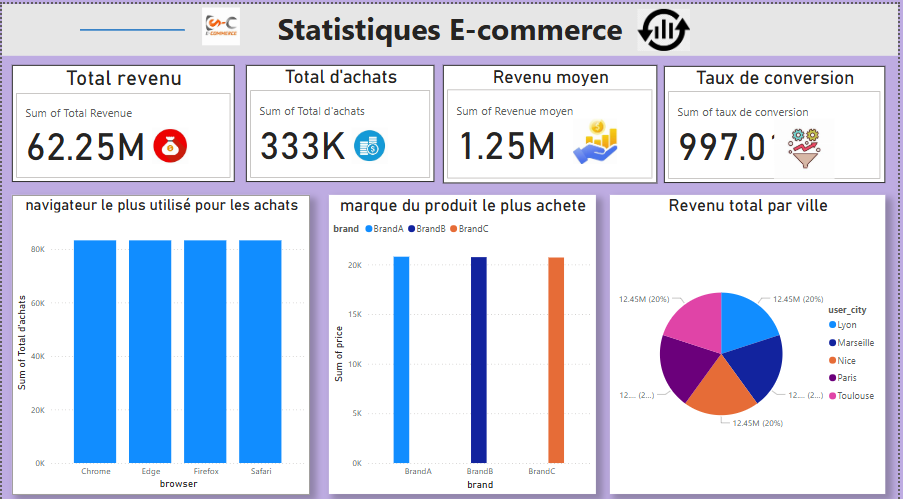

What the dashboard file says about the page in this screenshot:
{"tool":"powerbi","page":{"name":"tableau de bord ecommerce","canvas":[1280,720],"ordinal":0},"visuals":[{"type":"textbox","box":[0,0,1280,74.3],"z":0},{"type":"cardVisual","title":"Total revenu","fields":{"Data":["Sum(public ecommerce_events.Total Revenue)"]},"box":[14.4,87.8,318.2,167],"z":1000},{"type":"image","box":[194.4,171.4,92.2,61.9],"z":2000},{"type":"cardVisual","title":"Total d''achats","fields":{"Data":["Sum(public ecommerce_events.Total d'achats)"]},"box":[348.5,87.8,269.3,167],"z":4000},{"type":"image","box":[466.6,171.4,116.6,61.9],"z":5000},{"type":"cardVisual","title":"Revenu moyen","fields":{"Data":["Sum(public ecommerce_events.Revenue moyen)"]},"box":[630,87.1,305.7,168.6],"z":6000},{"type":"image","box":[793.4,158.4,109.4,74.9],"z":7000},{"type":"cardVisual","title":"Taux de conversion","fields":{"Data":["Sum(public ecommerce_events.taux de conversion)"]},"box":[945.7,88.6,315.7,167.1],"z":8000},{"type":"image","box":[1046.9,158.4,198.7,96.5],"z":9000},{"type":"image","box":[902.9,0,85,74.9],"z":10000},{"type":"clusteredColumnChart","title":" navigateur le plus utilisé pour les achats ","fields":{"Y":["Sum(public ecommerce_events.Total d'achats)"],"Category":["public ecommerce_events.browser"]},"box":[14.3,273.5,425.5,427.3],"z":11000},{"type":"clusteredColumnChart","title":"marque du produit le plus achete","fields":{"Series":["public ecommerce_events.brand"],"Y":["Sum(public ecommerce_events.price)"],"Category":["public ecommerce_events.brand"]},"box":[466.6,273.5,380.8,427.3],"z":12000},{"type":"pieChart","title":"Revenu total par ville","fields":{"Category":["public ecommerce_events.user_city"],"Y":["Sum(public ecommerce_events.Total Revenue)"]},"box":[868.6,272.9,392.9,427.1],"z":13000},{"type":"image","box":[142.9,0,340,64.3],"z":13001},{"type":"shape","box":[111.4,0,150,74.3],"z":13002}]}

Visuals, with their boxes in screenshot pixels (x1, y1, x2, y2), scaled from the page's 1280x720 canvas onto the 903x499 screenshot:
textbox: left=0, top=0, right=902, bottom=51
"Total revenu" cardVisual: left=10, top=61, right=235, bottom=177
image: left=137, top=119, right=202, bottom=162
"Total d''achats" cardVisual: left=246, top=61, right=436, bottom=177
image: left=329, top=119, right=411, bottom=162
"Revenu moyen" cardVisual: left=444, top=60, right=660, bottom=177
image: left=560, top=110, right=637, bottom=162
"Taux de conversion" cardVisual: left=667, top=61, right=890, bottom=177
image: left=739, top=110, right=879, bottom=177
image: left=637, top=0, right=697, bottom=52
" navigateur le plus utilisé pour les achats " clusteredColumnChart: left=10, top=190, right=310, bottom=486
"marque du produit le plus achete" clusteredColumnChart: left=329, top=190, right=598, bottom=486
"Revenu total par ville" pieChart: left=613, top=189, right=890, bottom=485
image: left=101, top=0, right=341, bottom=45
shape: left=79, top=0, right=184, bottom=51
